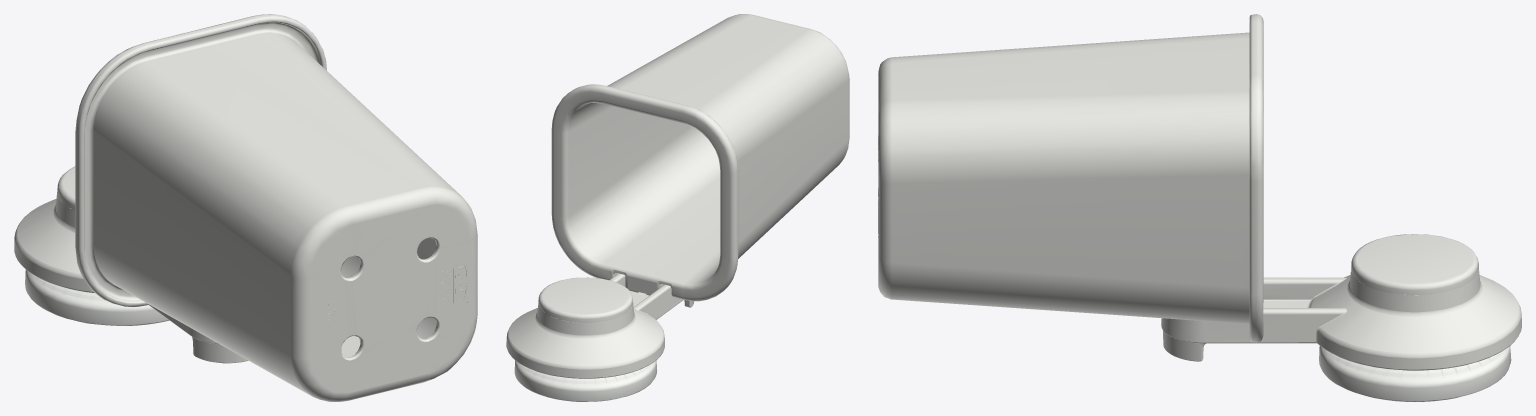
The model's file is TISKEN Porte brosses à dents avec ventouse blanc.glb.
3 renders of one model, left to right at view 1: azimuth 30°, elevation 25°; view 2: azimuth 150°, elevation 25°; view 3: azimuth 270°, elevation 25°, orthographic. The views are drawn at different scales.
Visible parts, largest first — view 1: 1; view 2: 1; view 3: 1.
Part boxes in pixels (x1,y1,x2,y2): 1: [14, 14, 477, 401]; 1: [506, 14, 849, 401]; 1: [878, 14, 1521, 401].
Bounding box in the file's own units: 0.082 × 0.0989 × 0.1839.
Materials: 2 (2 with a texture image).
